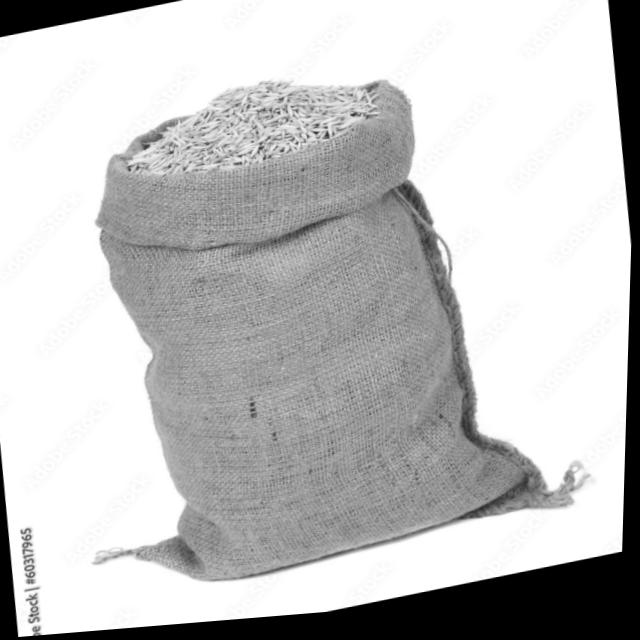sack: (45, 47, 606, 613)
